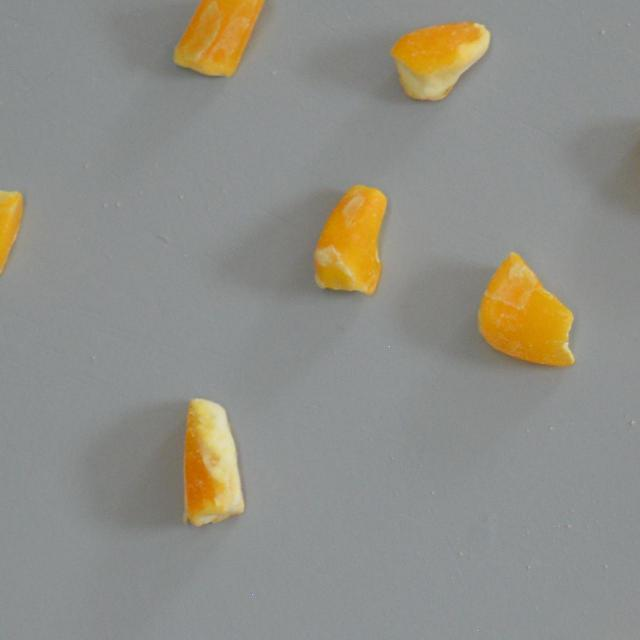pelicula: (471, 248, 576, 370), (173, 398, 258, 530), (308, 178, 394, 300), (388, 14, 496, 108), (168, 0, 270, 80), (0, 171, 27, 294)
